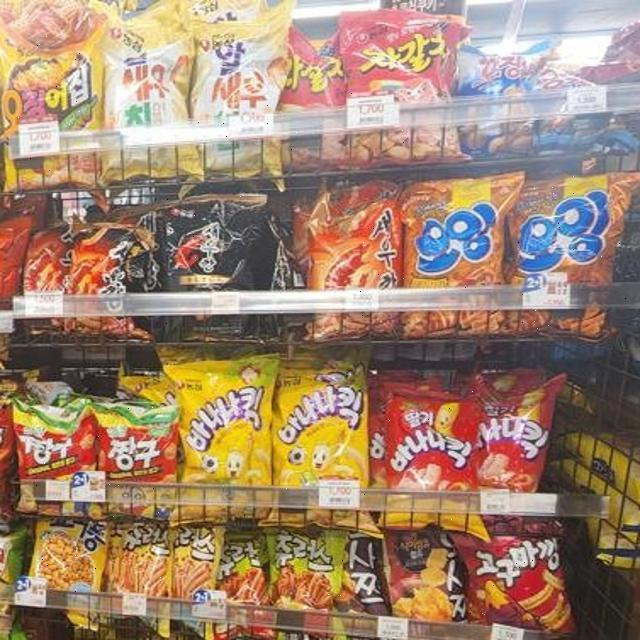product: (516, 175, 634, 339), (408, 170, 518, 338), (169, 362, 275, 524), (195, 21, 297, 182), (343, 17, 456, 162), (3, 30, 104, 186), (274, 366, 370, 521), (104, 17, 197, 176), (160, 194, 265, 329), (382, 389, 479, 530), (312, 190, 404, 332), (461, 535, 570, 624), (97, 406, 177, 517), (16, 407, 95, 507), (487, 379, 555, 492), (382, 529, 462, 624), (70, 227, 136, 338), (270, 522, 346, 614), (35, 521, 104, 600), (107, 522, 172, 595)
